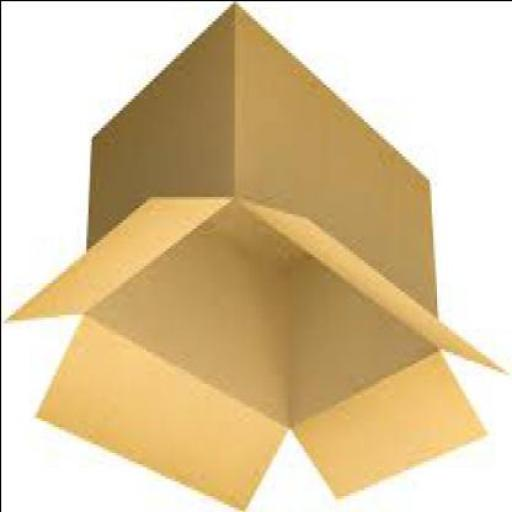cardboard: (0, 2, 508, 510)
